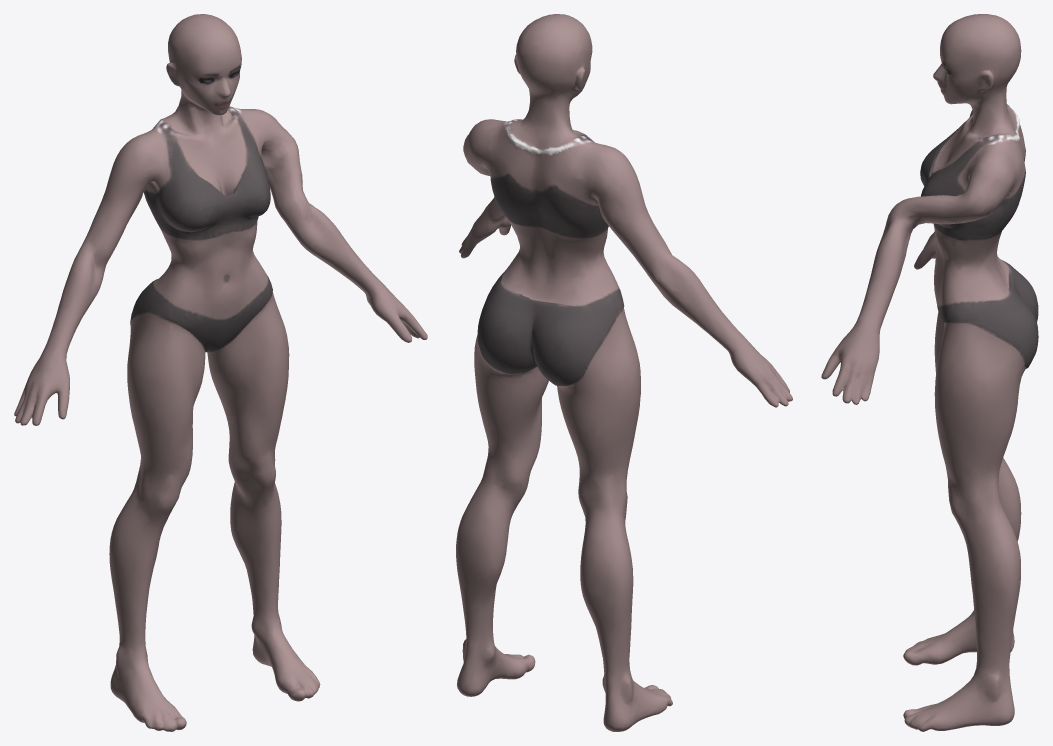
Rendered from 17-UpperArmR-60-child60-twist-20-candidate.glb.
The picture shows the model from 3 angles, left to right: view 1: azimuth 30°, elevation 25°; view 2: azimuth 150°, elevation 25°; view 3: azimuth 270°, elevation 25°; orthographic projection. The views are drawn at different scales.
Parts seen in each view (by area): view 1: candidate; view 2: candidate; view 3: candidate.
Boxes of the visible parts, x1=… form: candidate: x1=14, y1=14, x2=427, y2=731; candidate: x1=456, y1=14, x2=792, y2=731; candidate: x1=821, y1=14, x2=1038, y2=731.
Size of the model in its own units: 0.569 by 1 by 0.2919.
1 material, 1 textured.
